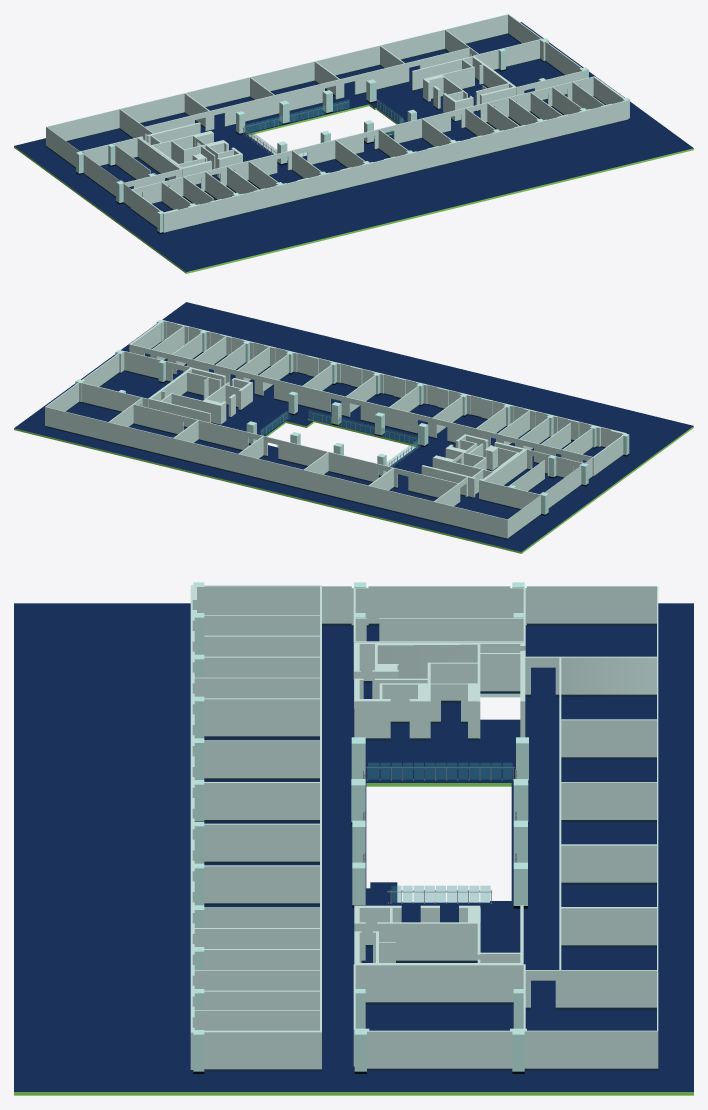
Rendered from 2F_Floor.fbx.
3 views of the same model, one above another, from view 1: azimuth 30°, elevation 25°; view 2: azimuth 150°, elevation 25°; view 3: azimuth 270°, elevation 25° (orthographic). The views are drawn at different scales.
Visible parts, largest first — view 1: 2_Floor, Room_01, Room_02, 2F_EV_02, 2F_EV_01, Center_Pillar_2F, 2F_Fence_A, 2F_Pillar, EV_Wall_B_02, EV_Wall_B_01, EV_Wall_A_02, EV_Wall_A_01; view 2: 2_Floor, Room_02, Room_01, 2F_EV_02, 2F_Pillar, 2F_EV_01, Center_Pillar_2F, 2F_Fence_A, EV_Wall_B_02, Wall_Hide, EV_Wall_B_01, EV_Wall_A_01; view 3: 2_Floor, Room_01, Room_02, 2F_EV_02, 2F_EV_01, 2F_Pillar, Center_Pillar_2F, 2F_Fence_A, Elevator_Wall, EV_Wall_A_01.
Boxes of the visible parts, x1,y1,x2,y2 form: 2_Floor: (14, 22, 693, 273); Room_01: (123, 76, 628, 233); Room_02: (46, 14, 584, 197); 2F_EV_02: (426, 56, 516, 122); 2F_EV_01: (139, 135, 242, 185); Center_Pillar_2F: (236, 79, 416, 165); 2F_Fence_A: (242, 99, 404, 156); 2F_Pillar: (76, 38, 629, 233); EV_Wall_B_02: (423, 67, 472, 100); EV_Wall_B_01: (412, 59, 461, 91); EV_Wall_A_02: (151, 123, 200, 142); EV_Wall_A_01: (172, 131, 213, 149); 2_Floor: (14, 302, 693, 553); Room_02: (45, 351, 582, 539); Room_01: (129, 320, 626, 479); 2F_EV_02: (148, 367, 252, 423); 2F_Pillar: (75, 320, 629, 515); 2F_EV_01: (445, 434, 525, 497); Center_Pillar_2F: (246, 391, 428, 476); 2F_Fence_A: (260, 410, 421, 466); EV_Wall_B_02: (171, 393, 223, 425); Wall_Hide: (421, 465, 474, 498); EV_Wall_B_01: (161, 401, 210, 427); EV_Wall_A_01: (432, 455, 472, 476); 2_Floor: (14, 603, 693, 1095); Room_01: (190, 585, 353, 1072); Room_02: (353, 586, 658, 1070); 2F_EV_02: (354, 905, 523, 1004); 2F_EV_01: (354, 643, 522, 740); 2F_Pillar: (193, 582, 525, 1073); Center_Pillar_2F: (351, 737, 528, 908); 2F_Fence_A: (363, 763, 517, 903); Elevator_Wall: (430, 683, 468, 723); EV_Wall_A_01: (468, 663, 480, 740).
Bounding box in the file's own units: 85 × 3.5 × 50.
